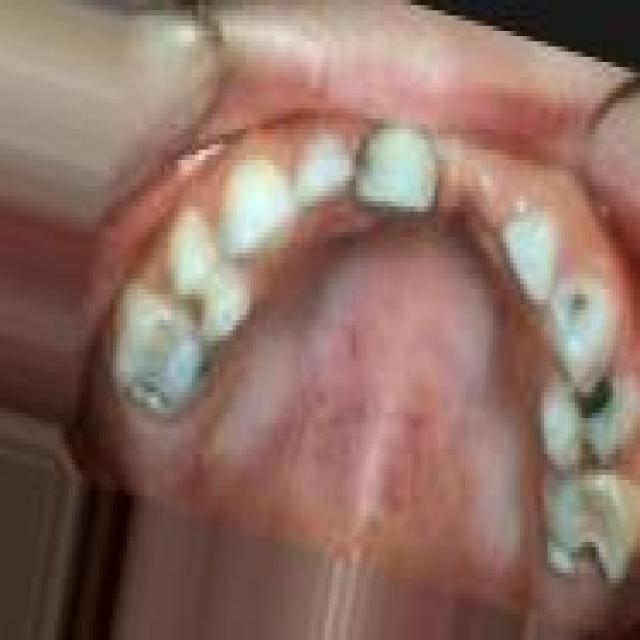caries: (114, 287, 215, 423), (536, 362, 640, 479), (548, 460, 640, 592), (550, 267, 613, 356)
